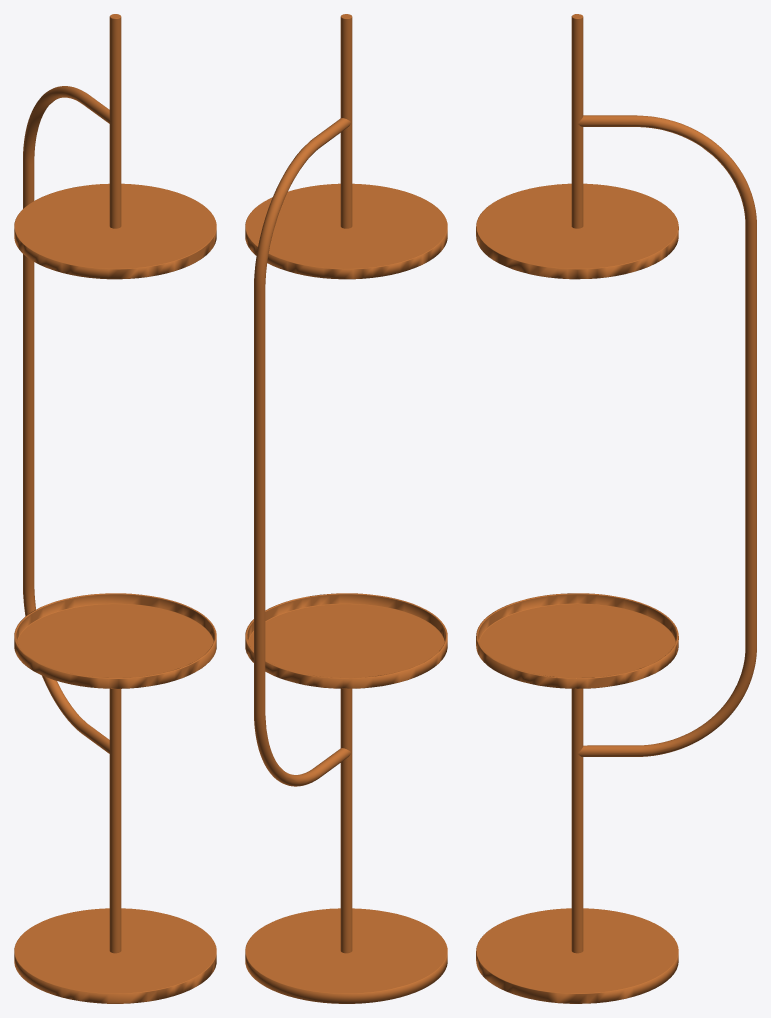
The picture shows the model from 3 angles, left to right: view 1: azimuth 30°, elevation 25°; view 2: azimuth 150°, elevation 25°; view 3: azimuth 270°, elevation 25°; orthographic projection.
Visible parts, largest first — view 1: Shade; view 2: Shade; view 3: Shade.
Part boxes in pixels (bbox=[...]): Shade: bbox=[14, 14, 216, 1003]; Shade: bbox=[245, 14, 447, 1003]; Shade: bbox=[476, 14, 756, 1003].
Size of the model in its own units: 0.3498 by 1.8 by 0.4847.
